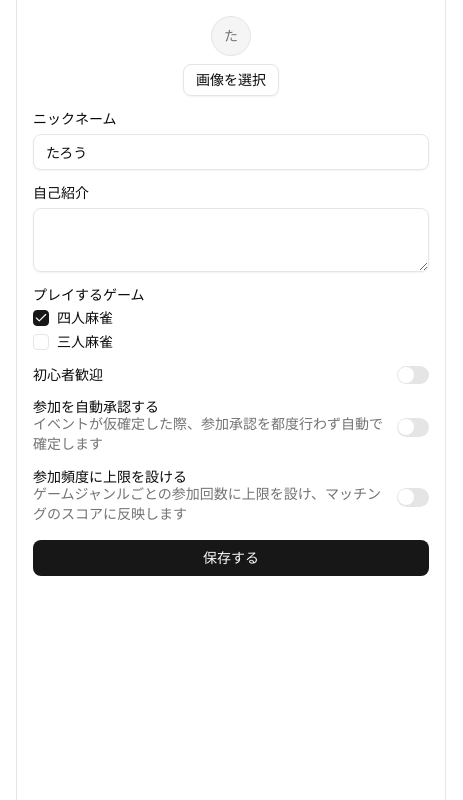
ProfileEditPage › 上限設定をオンにすると回数・期間欄が表示される
Expected: the field labelled "ニックネーム" is shown, [33,134,429,170]
Click the switch named "参加頻度に上限を設ける" next to "ゲームジャンルごとの参加回数に上限を設け、マッチングのスコアに反映します" at (413, 497), box [397,488,429,507]
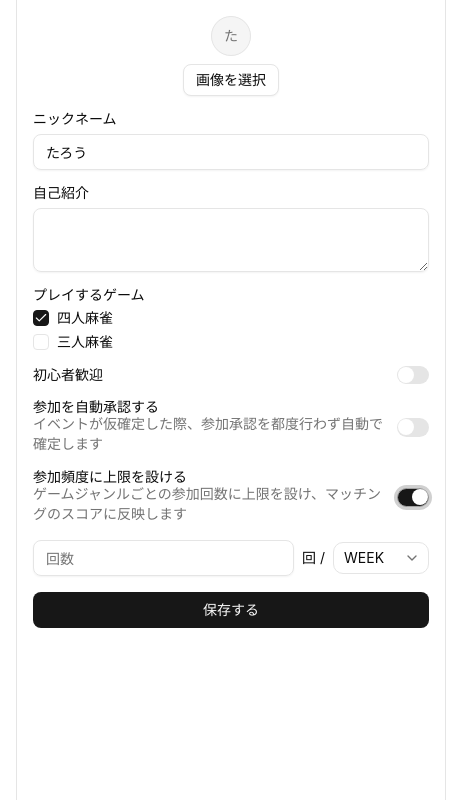
Expected: the number field with placeholder "回数" is shown, [33,540,294,576]
